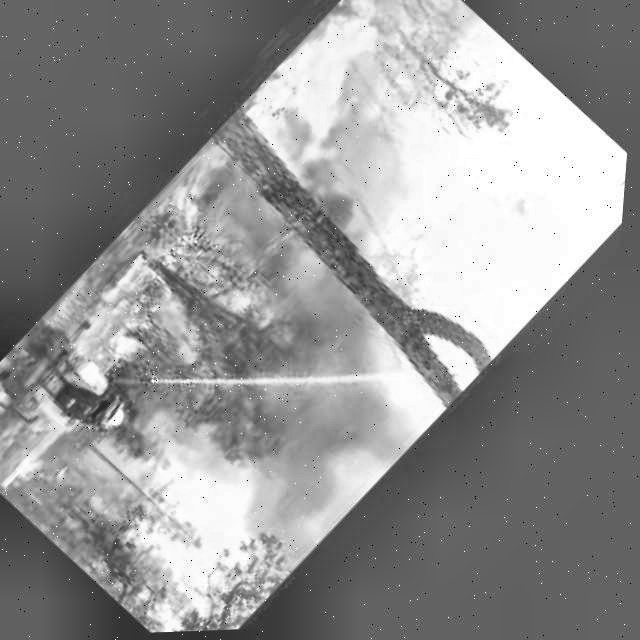Fire: (227, 0, 479, 201), (91, 286, 194, 390), (2, 437, 89, 522), (11, 445, 65, 498), (60, 470, 79, 488)
Smoke: (83, 197, 475, 574), (318, 21, 638, 356)
